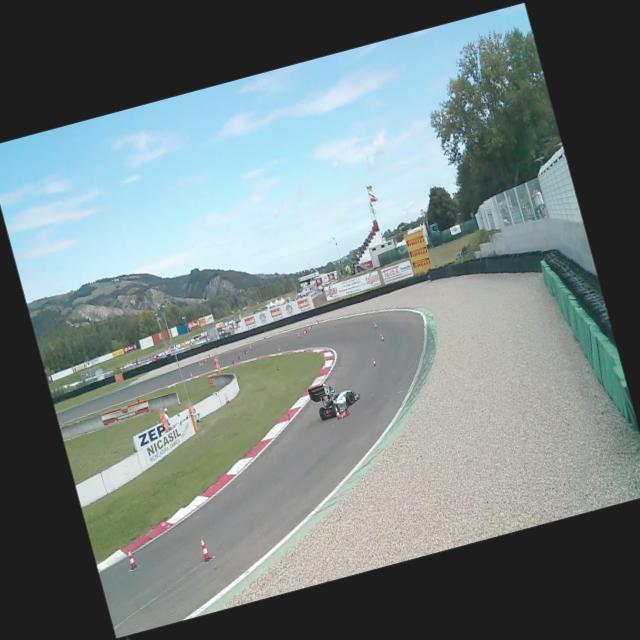large_orange_cone: (196, 534, 212, 562), (125, 548, 138, 570), (333, 404, 341, 420), (338, 408, 349, 418), (223, 393, 229, 403), (371, 355, 376, 366), (372, 320, 378, 329), (379, 332, 384, 342), (296, 329, 301, 338), (188, 370, 193, 378), (226, 392, 230, 402), (236, 354, 242, 360), (307, 324, 313, 330), (248, 342, 252, 350), (276, 344, 280, 352), (302, 329, 308, 334), (206, 352, 211, 358), (198, 359, 202, 366), (315, 319, 319, 325), (200, 360, 204, 366), (204, 356, 208, 362), (231, 360, 236, 364), (243, 350, 248, 354)
